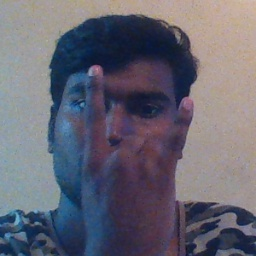V: (72, 63, 197, 253)
